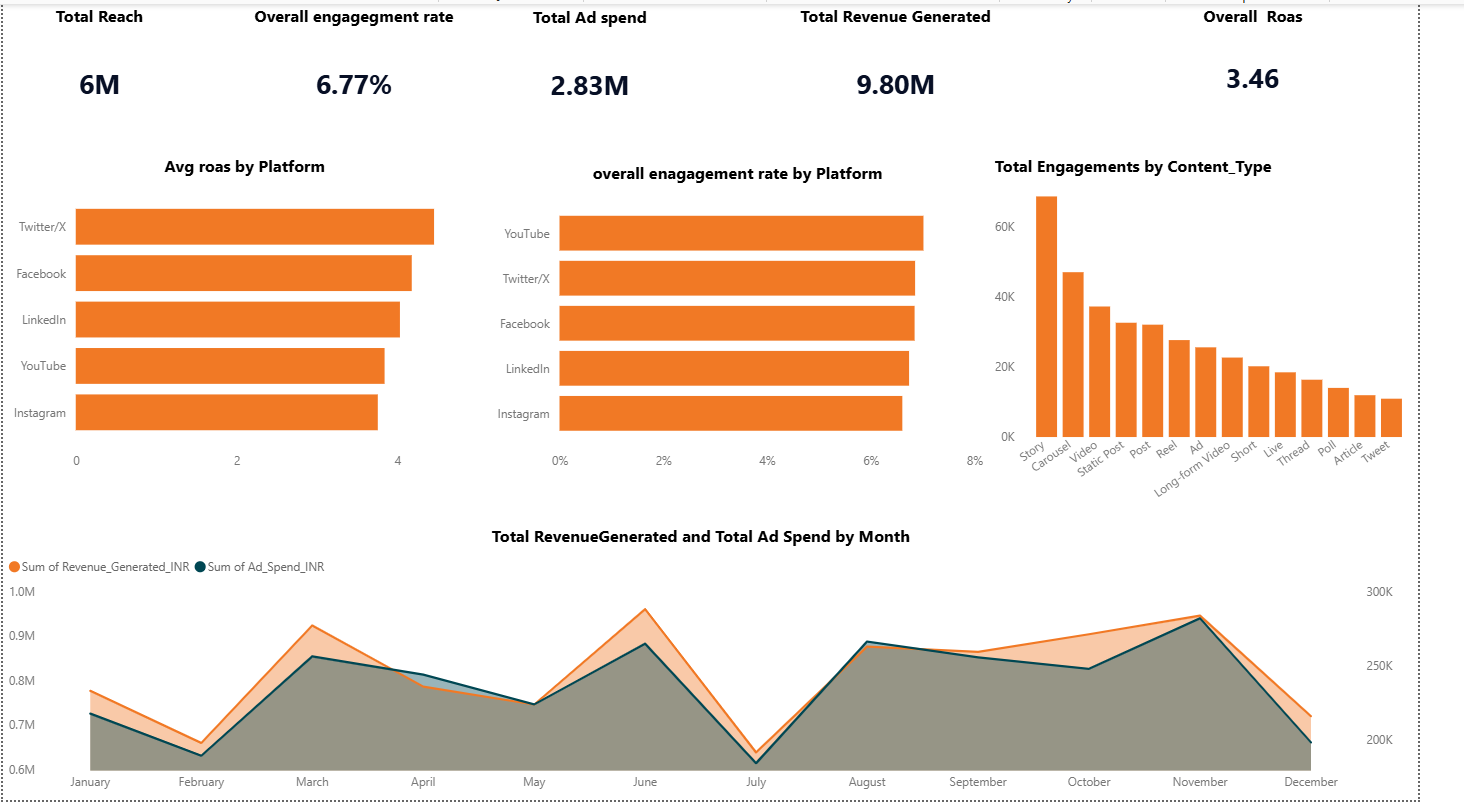

This screenshot's page, from the dashboard's own definition file:
{"tool":"powerbi","page":{"name":"Page 1","canvas":[1280,720],"ordinal":0},"visuals":[{"type":"cardVisual","title":"Total Reach","fields":{"Data":["Sum(Social Media Data.Reach)"]},"box":[9.6,0,156.4,116.6],"z":0},{"type":"cardVisual","title":"Overall engagegment rate","fields":{"Data":["Measure.overall enagagement rate"]},"box":[196.2,0,241.5,116.6],"z":1000},{"type":"cardVisual","title":"Total Ad spend","fields":{"Data":["Sum(Social Media Data.Ad_Spend_INR)"]},"box":[421.3,1.4,218.2,116.6],"z":2000},{"type":"cardVisual","title":"Total Revenue Generated","fields":{"Data":["Sum(Social Media Data.Revenue_Generated_INR)"]},"box":[655.9,0,303.3,116.6],"z":3000},{"type":"cardVisual","title":"Overall  Roas","fields":{"Data":["Measure.Overall Roas"]},"box":[979.8,0,300.5,104.3],"z":4000},{"type":"clusteredBarChart","fields":{"Category":["Social Media Data.Platform"],"Y":["Measure.Avg roas"]},"box":[0,135.8,437.7,295],"z":5000},{"type":"clusteredBarChart","fields":{"Category":["Social Media Data.Platform"],"Y":["Measure.overall enagagement rate"]},"box":[437.7,142.7,454.2,288.2],"z":6000},{"type":"clusteredColumnChart","title":"Total Engagements by Content_Type","fields":{"Category":["Social Media Data.Content_Type"],"Y":["Sum(Social Media Data.Engagements)"]},"box":[891.9,135.8,388.3,325.2],"z":7000},{"type":"lineChart","title":"Total RevenueGenerated and Total Ad Spend by Month","fields":{"Category":["Social Media Data.Month.Variation.Date Hierarchy.Month"],"Y":["Sum(Social Media Data.Revenue_Generated_INR)"],"Y2":["Sum(Social Media Data.Ad_Spend_INR)"]},"box":[0,470.7,1262.4,249.7],"z":8000}]}

Visuals, with their boxes in screenshot pixels (x1, y1, x2, y2), scaled from the page's 1280x720 canvas onto the 1464x805 screenshot:
"Total Reach" cardVisual: bbox=[11, 0, 190, 130]
"Overall engagegment rate" cardVisual: bbox=[224, 0, 501, 130]
"Total Ad spend" cardVisual: bbox=[482, 2, 731, 132]
"Total Revenue Generated" cardVisual: bbox=[750, 0, 1097, 130]
"Overall  Roas" cardVisual: bbox=[1121, 0, 1463, 117]
clusteredBarChart - Social Media Data.Platform x Measure.Avg roas: bbox=[0, 152, 501, 482]
clusteredBarChart - Social Media Data.Platform x Measure.overall enagagement rate: bbox=[501, 160, 1020, 482]
"Total Engagements by Content_Type" clusteredColumnChart: bbox=[1020, 152, 1463, 515]
"Total RevenueGenerated and Total Ad Spend by Month" lineChart: bbox=[0, 526, 1444, 804]
